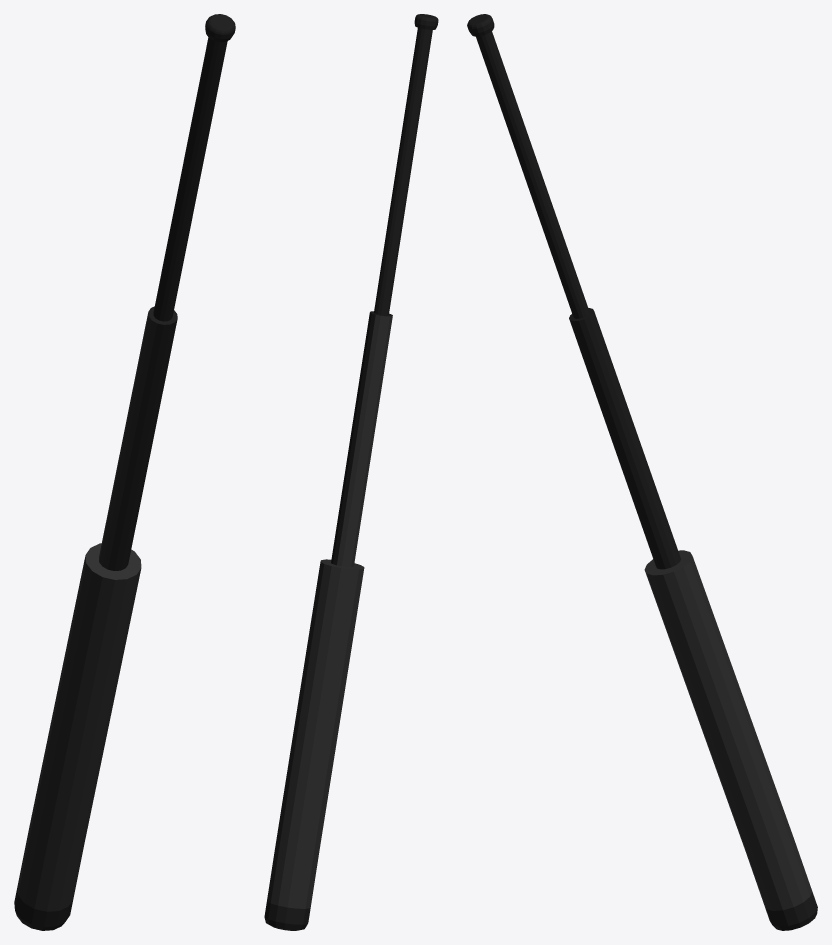
Rendered from telesc.obj.
The picture shows the model from 3 angles, left to right: view 1: azimuth 30°, elevation 25°; view 2: azimuth 150°, elevation 25°; view 3: azimuth 270°, elevation 25°; orthographic projection. The views are drawn at different scales.
Visible parts, largest first — view 1: Cylinder; view 2: Cylinder; view 3: Cylinder.
Boxes of the visible parts, x1=… form: Cylinder: x1=14, y1=14, x2=235, y2=930; Cylinder: x1=264, y1=14, x2=438, y2=930; Cylinder: x1=467, y1=14, x2=817, y2=930.
Size of the model in its own units: 0.0464 by 0.9466 by 0.3308.
1 material, 1 textured.
